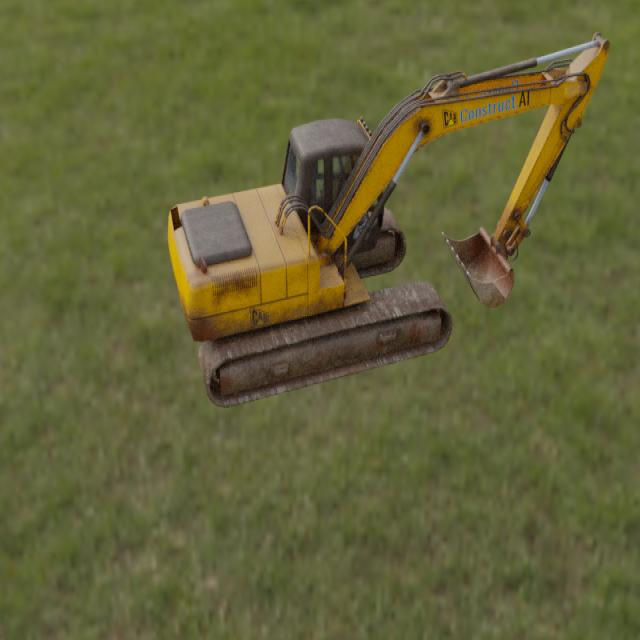excavator: (167, 31, 610, 408)
